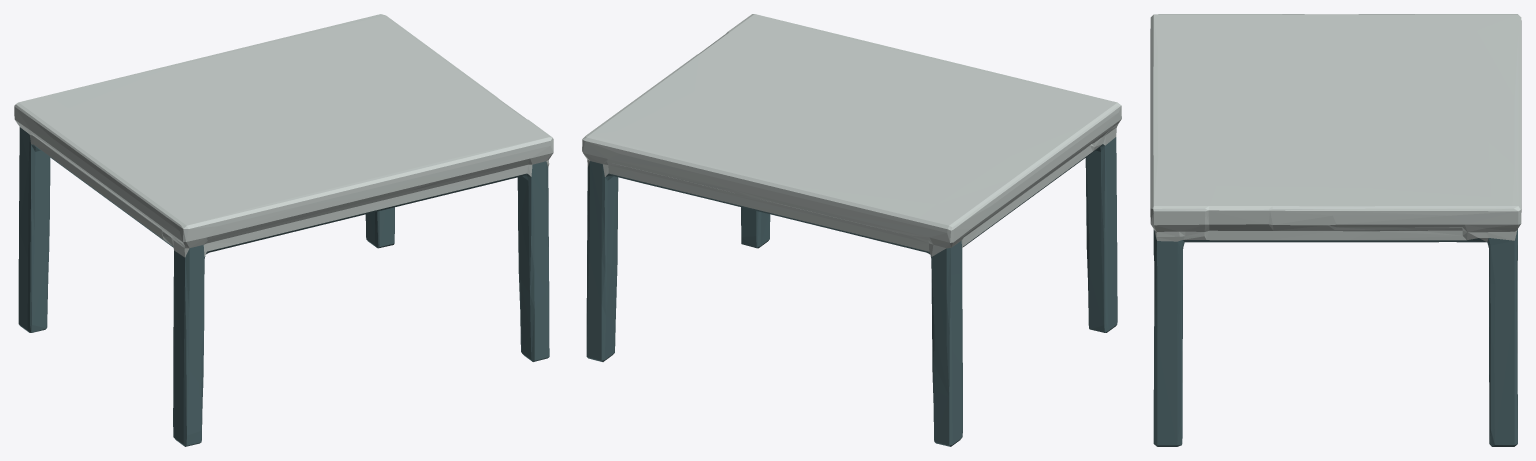
File: table.glb
3 renders of one model, left to right at view 1: azimuth 30°, elevation 25°; view 2: azimuth 150°, elevation 25°; view 3: azimuth 270°, elevation 25°, orthographic. The views are drawn at different scales.
Visible parts, largest first — view 1: TablePilot; view 2: TablePilot; view 3: TablePilot.
Boxes of the visible parts, x1=… form: TablePilot: x1=14, y1=14, x2=553, y2=446; TablePilot: x1=582, y1=14, x2=1121, y2=446; TablePilot: x1=1150, y1=14, x2=1521, y2=446.
Bounding box in the file's own units: 1.5 × 0.86 × 1.2.
